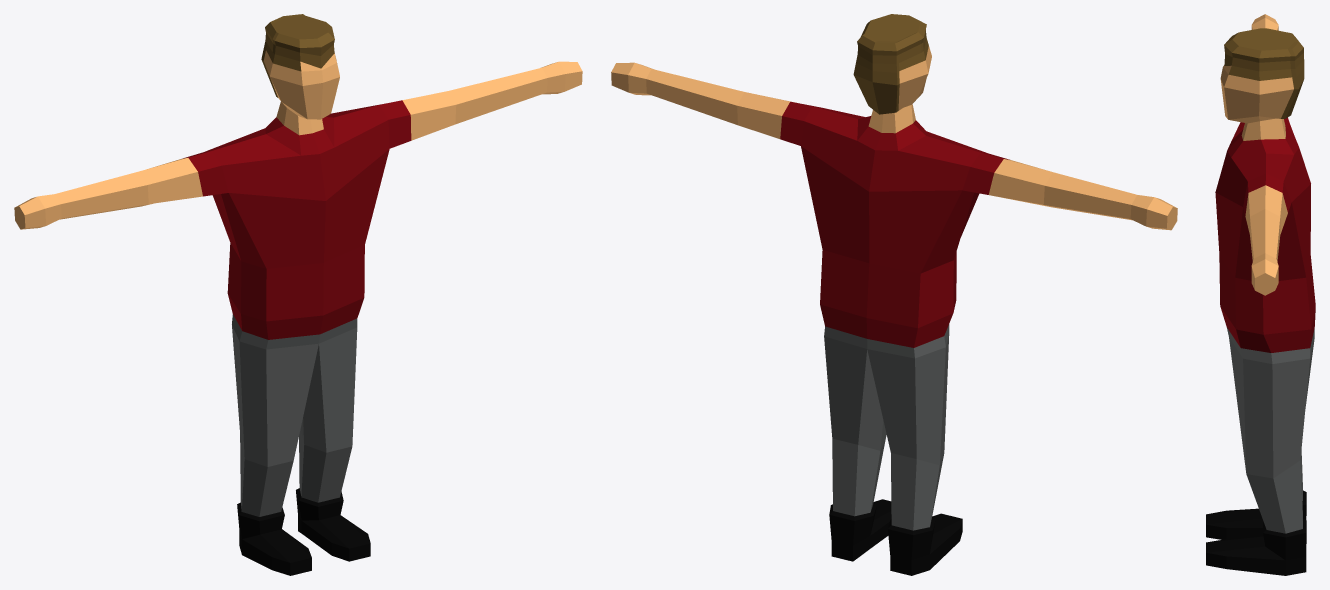
Rendered from character_ts.glb.
The picture shows the model from 3 angles, left to right: view 1: azimuth 30°, elevation 25°; view 2: azimuth 150°, elevation 25°; view 3: azimuth 270°, elevation 25°; orthographic projection. The views are drawn at different scales.
Visible parts, largest first — view 1: Cube.005; view 2: Cube.005; view 3: Cube.005.
Boxes of the visible parts, <box> form: Cube.005: <box>14,14,582,575</box>; Cube.005: <box>611,14,1177,575</box>; Cube.005: <box>1206,14,1315,575</box>.
Bounding box in the file's own units: 8.72 × 7.84 × 1.52.
